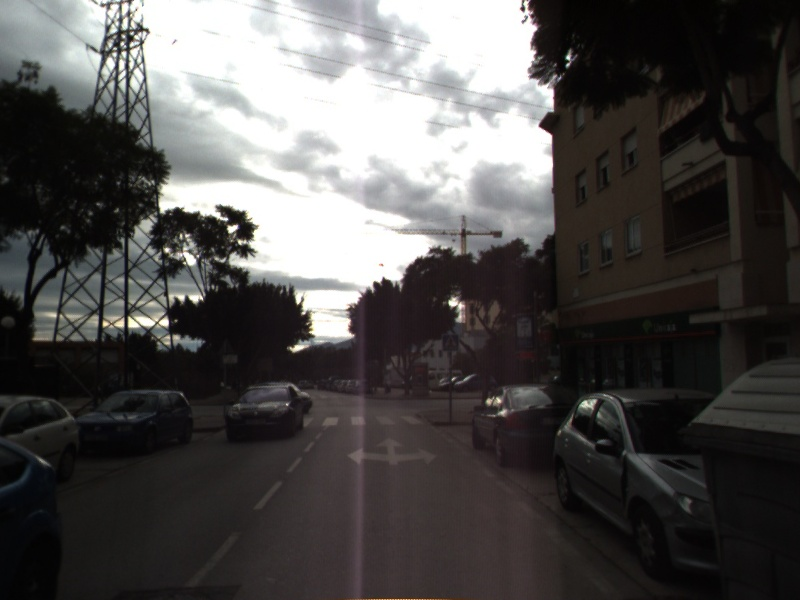STRAIGHT_LEFT_RIGHT: (345, 436, 441, 467)
